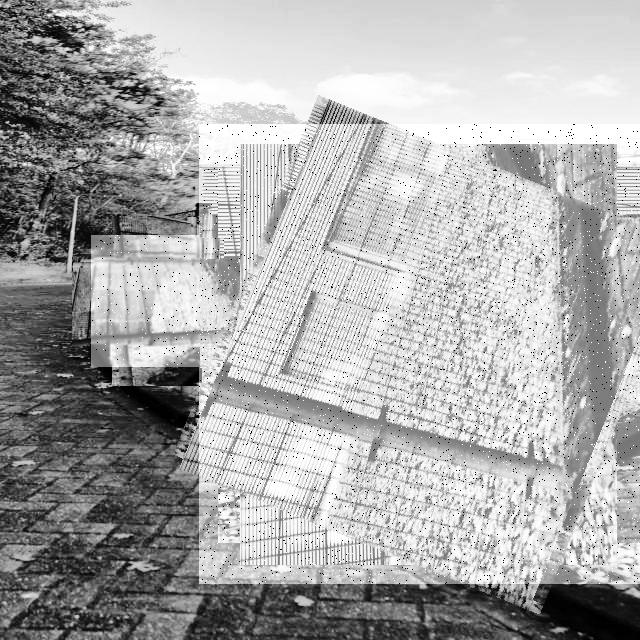fences: (199, 124, 640, 584), (91, 235, 223, 367)
